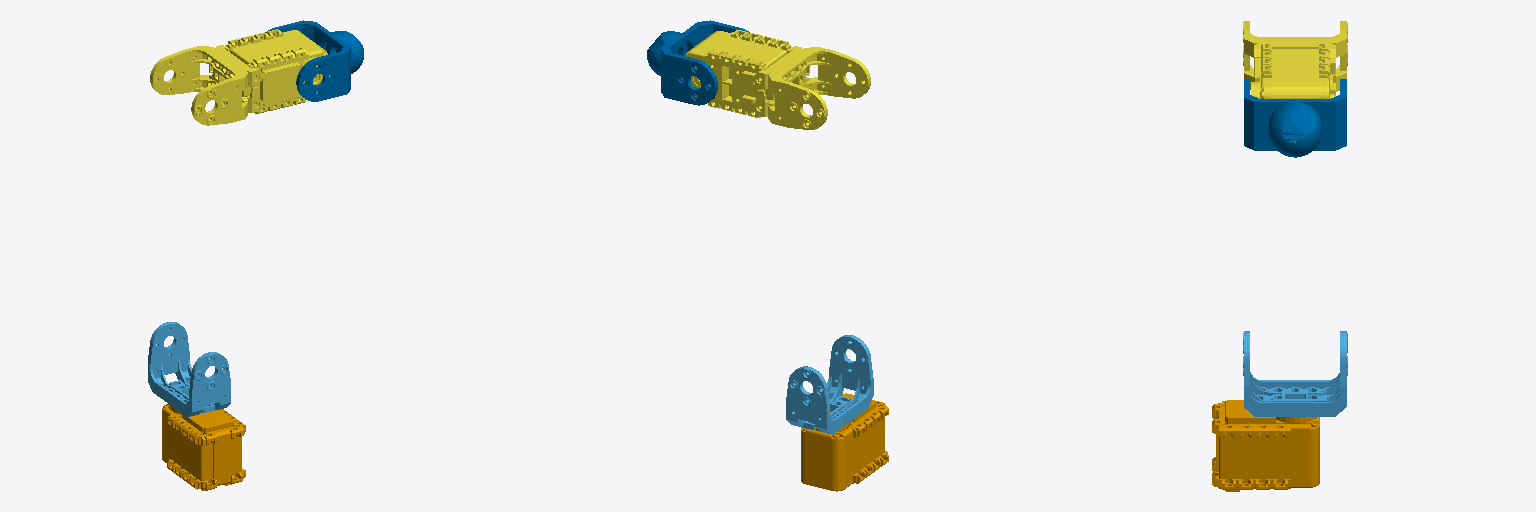
The robot description file, URDF, robot "campusrover_arm":
<?xml version="1.0"?>
<robot name="campusrover_arm">

    <link name="arm_link_1">
        <visual>
            <origin xyz="0 0 0" rpy="0 0 0" />
            <geometry>
                <!-- <mesh filename="package://campusrover_arm_description/meshes/link_1.dae"/> -->
                <mesh filename="package://campusrover_arm_description/meshes/arm_link_1.stl" scale ="0.001 0.001 0.001"/>
            </geometry>
             <material name="green"/>
        </visual>
        <collision>
            <origin xyz="0 0 0" rpy="0 0 0" />
            <geometry>
                <!-- <mesh filename="package://campusrover_arm_description/meshes/link_1.dae"/> -->
                <mesh filename="package://campusrover_arm_description/meshes/arm_link_1.stl" scale ="0.001 0.001 0.001"/>
            </geometry>
        </collision>
    </link>

    <link name="arm_link_2">
        <visual>
            <origin xyz="0 0 0" rpy="0 0 0" />
            <geometry>
                <!-- <mesh filename="package://campusrover_arm_description/meshes/link_2.dae"/> -->
                <mesh filename="package://campusrover_arm_description/meshes/arm_link_2.stl" scale ="0.001 0.001 0.001"/>
            </geometry>
        </visual>
        <collision>
            <origin xyz="0 0 0" rpy="0 0 0" />
            <geometry>
                <!-- <mesh filename="package://campusrover_arm_description/meshes/link_2.dae"/> -->
                <mesh filename="package://campusrover_arm_description/meshes/arm_link_2.stl" scale ="0.001 0.001 0.001"/>
            </geometry>
        </collision>
    </link>

    <link name="arm_link_3">
        <visual>
            <origin xyz="0 0 0" rpy="0 0 0" />
            <geometry>
                <!-- <mesh filename="package://campusrover_arm_description/meshes/link_3.dae"/> -->
                <mesh filename="package://campusrover_arm_description/meshes/arm_link_3.stl" scale ="0.001 0.001 0.001"/>
            </geometry>
        </visual>
        <collision>
            <origin xyz="0 0 0" rpy="0 0 0" />
            <geometry>
                <!-- <mesh filename="package://campusrover_arm_description/meshes/link_3.dae"/> -->
                <mesh filename="package://campusrover_arm_description/meshes/arm_link_3.stl" scale ="0.001 0.001 0.001"/>
            </geometry>
        </collision>
    </link>

    <link name="arm_link_4">
        <visual>
            <origin xyz="0 0 0" rpy="0 0 0" />
            <geometry>
                <!-- <mesh filename="package://campusrover_arm_description/meshes/link_4.dae"/> -->
                <mesh filename="package://campusrover_arm_description/meshes/arm_link_4.stl" scale ="0.001 0.001 0.001"/>
            </geometry>
        </visual>
        <collision>
            <origin xyz="0 0 0" rpy="0 0 0" />
            <geometry>
                <!-- <mesh filename="package://campusrover_arm_description/meshes/link_4.dae"/> -->
                <mesh filename="package://campusrover_arm_description/meshes/arm_link_4.stl" scale ="0.001 0.001 0.001"/>
            </geometry>
        </collision>
    </link>

    <link name="arm_link_5">
        <visual>
            <origin xyz="0 0 0" rpy="0 0 0" />
            <geometry>
                <!-- <mesh filename="package://campusrover_arm_description/meshes/link_5.dae"/> -->
                <mesh filename="package://campusrover_arm_description/meshes/arm_link_5.stl" scale ="0.001 0.001 0.001"/>
            </geometry>
        </visual>
        <collision>
            <origin xyz="0 0 0" rpy="0 0 0" />
            <geometry>
                <!-- <mesh filename="package://campusrover_arm_description/meshes/link_5.dae"/> -->
                <mesh filename="package://campusrover_arm_description/meshes/arm_link_5.stl" scale ="0.001 0.001 0.001"/>
            </geometry>
        </collision>
    </link>

    <link name="arm_link_6">
        <visual>
            <origin xyz="0 0 0" rpy="0 0 0" />
            <geometry>
                <box size="0.001 0.001 0.001" />
            </geometry>
        </visual>
        <collision>
            <origin xyz="0 0 0" rpy="0 0 0" />
            <geometry>
                <box size="0.001 0.001 0.001" />
            </geometry>
        </collision>
    </link>

    <joint name="joint_1" type="revolute">
        <origin xyz="0 0 0" rpy="0 0 0" />
        <axis xyz="0 0 1" />
        <parent link="arm_link_1"/>
        <child link="arm_link_2"/>
        <limit effort="1000.0" lower="-1.708" upper="1.708" velocity="1.0" />
    </joint>

    <joint name="joint_2" type="revolute">
        <origin xyz="0 0 0.026" rpy="0 0 0" />
        <axis xyz="0 1 0" />
        <parent link="arm_link_2"/>
        <child link="arm_link_3"/>
        <limit effort="1000.0" lower="-1.57" upper="1.57" velocity="1.0" />
    </joint>

    <joint name="joint_3" type="revolute">
        <origin xyz="0.00 0 0.1595" rpy="0 0 0" />
        <axis xyz="0 1 0" />
        <parent link="arm_link_3"/>
        <child link="arm_link_4"/>
        <limit effort="1000.0" lower="-1.57" upper="1.57" velocity="1.0" />
    </joint>

    <joint name="joint_4" type="revolute">
        <origin xyz="0.0675 0 0.0" rpy="0 0 0" />
        <axis xyz="0 1 0" />
        <parent link="arm_link_4"/>
        <child link="arm_link_5"/>
        <limit effort="1000.0" lower="-1.708" upper="1.708" velocity="1.0" />
    </joint>

    <joint name="joint_5" type="fixed">
        <parent link="arm_link_5" />
        <child link="arm_link_6" />
        <origin xyz="0.0405 0 0" rpy="0 -1.57 0" />
    </joint>

</robot>

--- What the picture shows (computed from the rendered views, not written in the file) ---
The picture shows the robot from 3 angles, left to right: view 1: azimuth 30°, elevation 25°; view 2: azimuth 150°, elevation 25°; view 3: azimuth 270°, elevation 25°; orthographic projection.
Robot: campusrover_arm — 6 links, 5 joints (4 revolute, 1 fixed); root link arm_link_1; default pose: every joint at zero.
Visible links, largest first — view 1: arm_link_4, arm_link_1, arm_link_2, arm_link_5; view 2: arm_link_4, arm_link_2, arm_link_1, arm_link_5; view 3: arm_link_1, arm_link_4, arm_link_5, arm_link_2.
Link boxes in pixels (box(x1,y1,x2,y2)): arm_link_4: box(150, 29, 330, 125); arm_link_1: box(162, 404, 245, 490); arm_link_2: box(148, 322, 230, 416); arm_link_5: box(260, 20, 363, 101); arm_link_4: box(684, 30, 870, 129); arm_link_2: box(786, 335, 873, 434); arm_link_1: box(801, 393, 888, 491); arm_link_5: box(647, 20, 749, 105); arm_link_1: box(1212, 400, 1319, 491); arm_link_4: box(1243, 21, 1347, 98); arm_link_5: box(1244, 79, 1346, 157); arm_link_2: box(1243, 331, 1347, 416).
Bounding box of the posed robot: 0.1245 × 0.0629 × 0.2412 m (x, y, z).
4 mesh visuals loaded from 5 distinct referenced files (4 binary STL); not drawn: 1 (reference not matched to a file when rendering).